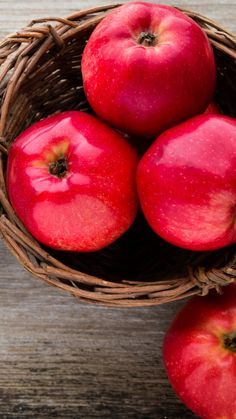Apple: (7, 98, 135, 251), (81, 5, 213, 133), (135, 119, 236, 248), (163, 297, 236, 412)
